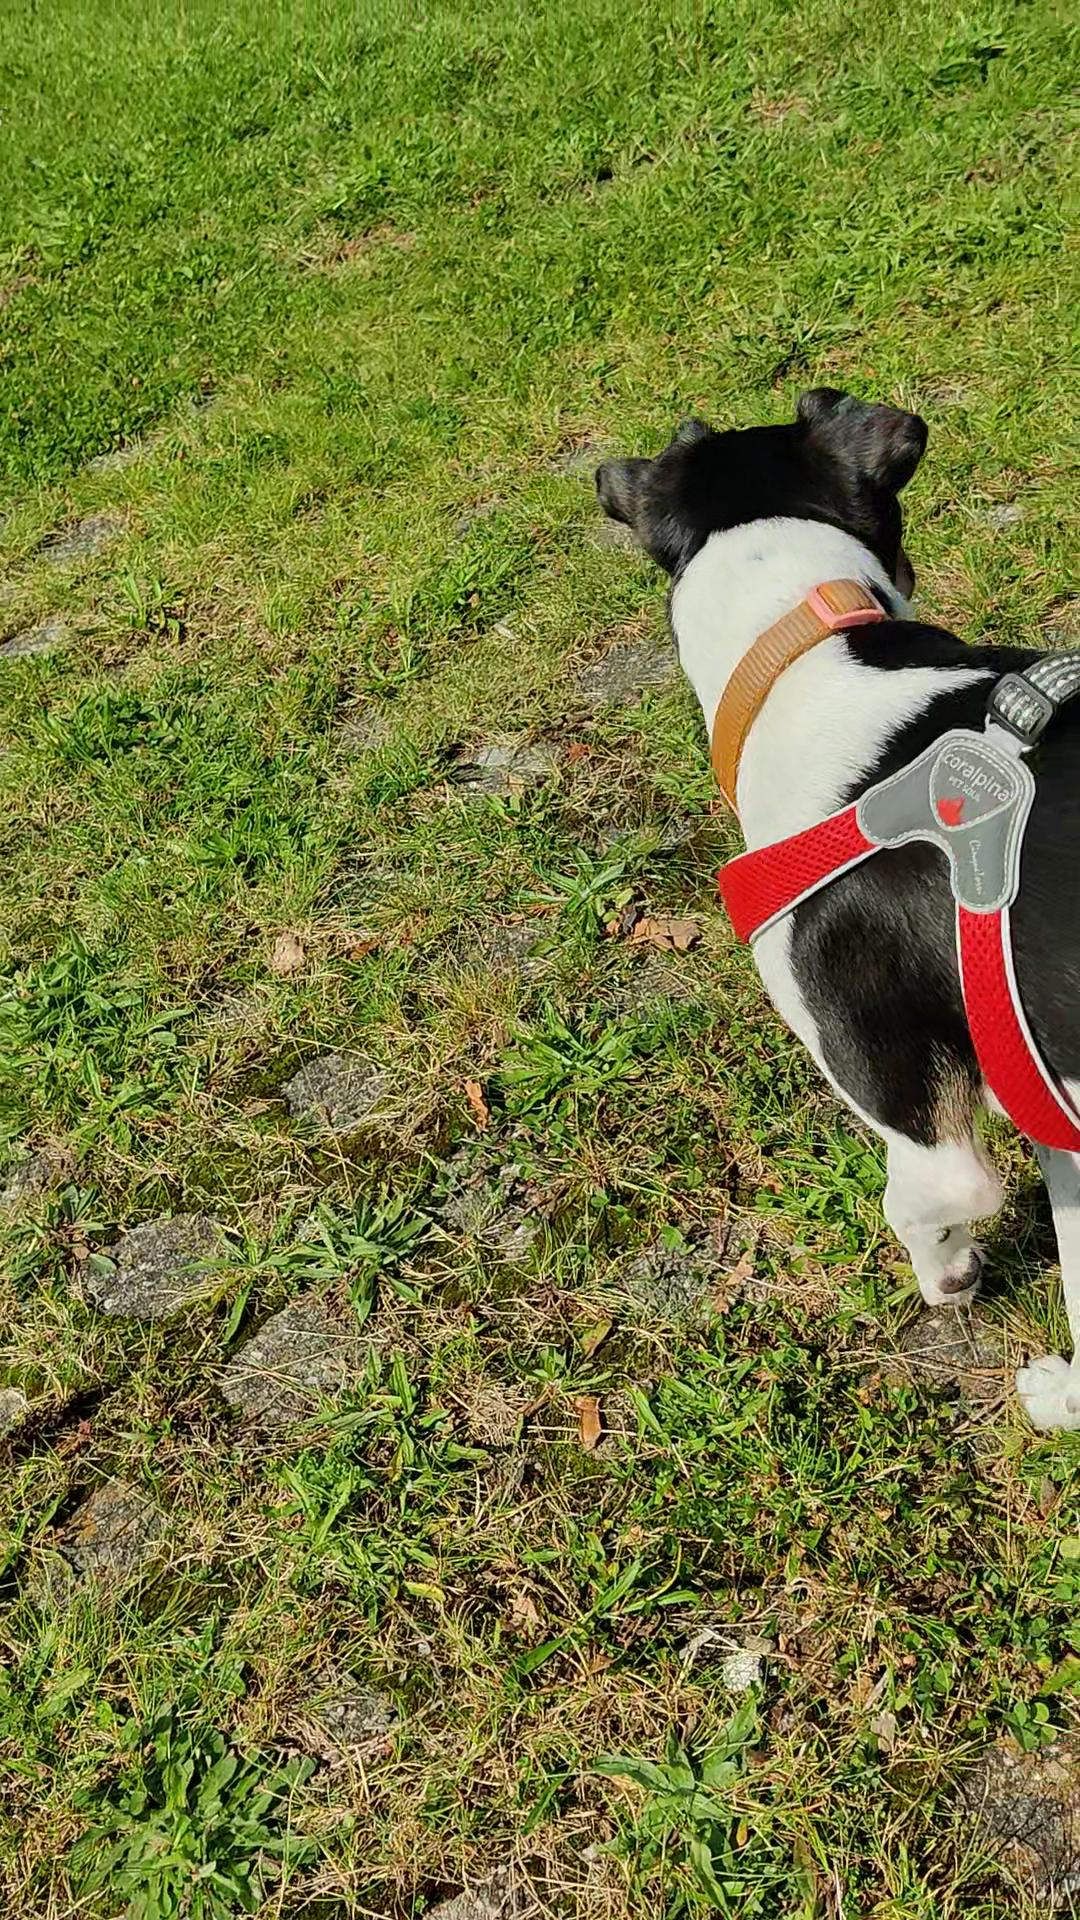Dog: (554, 322, 1077, 1487)
